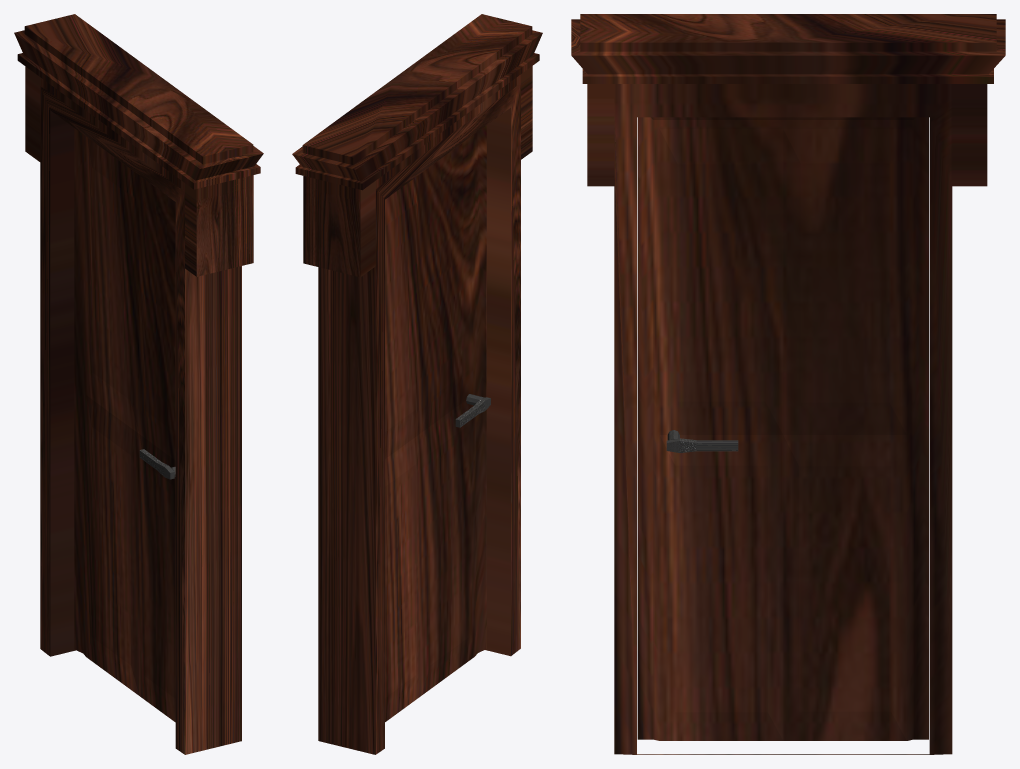
File: porta the tower.fbx
The picture shows the model from 3 angles, left to right: view 1: azimuth 30°, elevation 25°; view 2: azimuth 150°, elevation 25°; view 3: azimuth 270°, elevation 25°; orthographic projection. The views are drawn at different scales.
Visible parts, largest first — view 1: quadro porta, porta porta, macaneta porta; view 2: quadro porta, porta porta, macaneta porta; view 3: porta porta, quadro porta, macaneta porta.
Part boxes in pixels (left/top/right/bottom): quadro porta: left=14, top=14, right=263, bottom=754; porta porta: left=74, top=128, right=175, bottom=722; macaneta porta: left=139, top=449, right=175, bottom=479; quadro porta: left=292, top=14, right=542, bottom=754; porta porta: left=385, top=125, right=486, bottom=721; macaneta porta: left=455, top=394, right=490, bottom=427; porta porta: left=637, top=117, right=928, bottom=740; quadro porta: left=571, top=14, right=1005, bottom=754; macaneta porta: left=666, top=430, right=738, bottom=452.
Size of the model in its own units: 67.71 by 592 by 328.
Materials: 3 (3 with a texture image).
